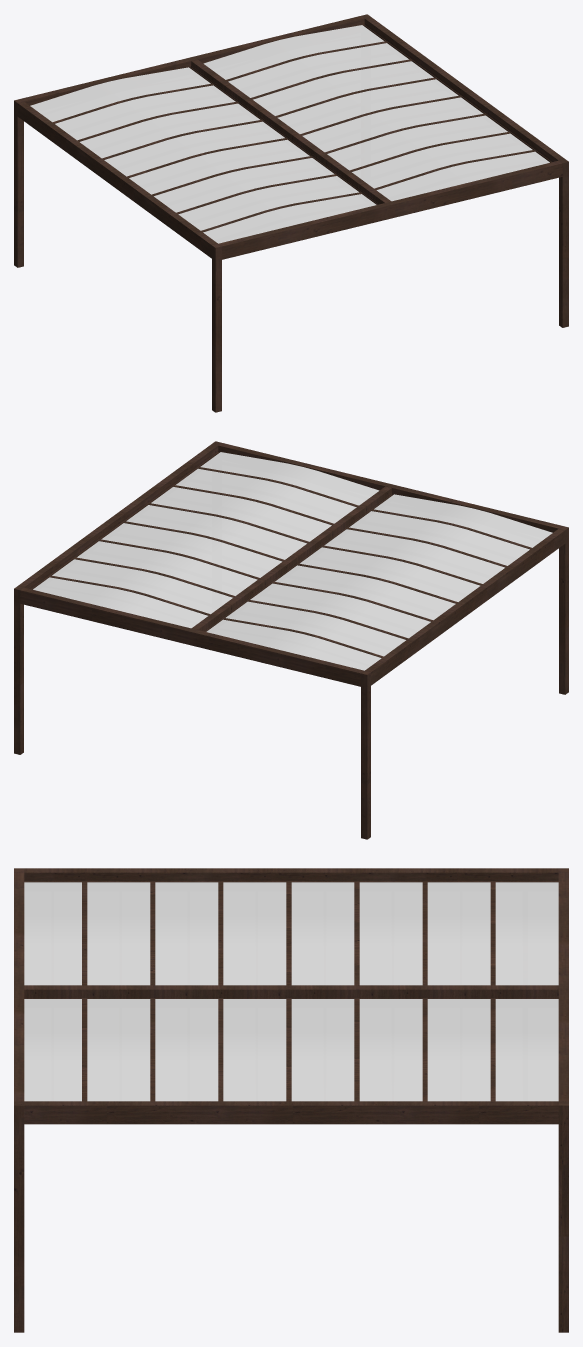
The model's file is hyrcaryaad-h24-w54-d53_darkpine.fbx.
The picture shows the model from 3 angles, top to bottom: view 1: azimuth 30°, elevation 25°; view 2: azimuth 150°, elevation 25°; view 3: azimuth 270°, elevation 25°; orthographic projection. The views are drawn at different scales.
Parts seen in each view (by area): view 1: hyrcaryaad-h24-w54-d53-darkpine; view 2: hyrcaryaad-h24-w54-d53-darkpine; view 3: hyrcaryaad-h24-w54-d53-darkpine.
Boxes of the visible parts, x1,y1,x2,y2 form: hyrcaryaad-h24-w54-d53-darkpine: (14,14,568,412); hyrcaryaad-h24-w54-d53-darkpine: (14,441,568,839); hyrcaryaad-h24-w54-d53-darkpine: (14,868,568,1332).
Size of the model in its own units: 550 by 245 by 543.
2 materials, 1 textured.
